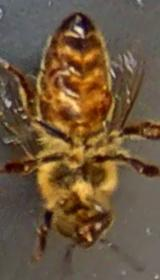varroa_mite: (50, 67, 75, 93), (93, 89, 114, 118)
